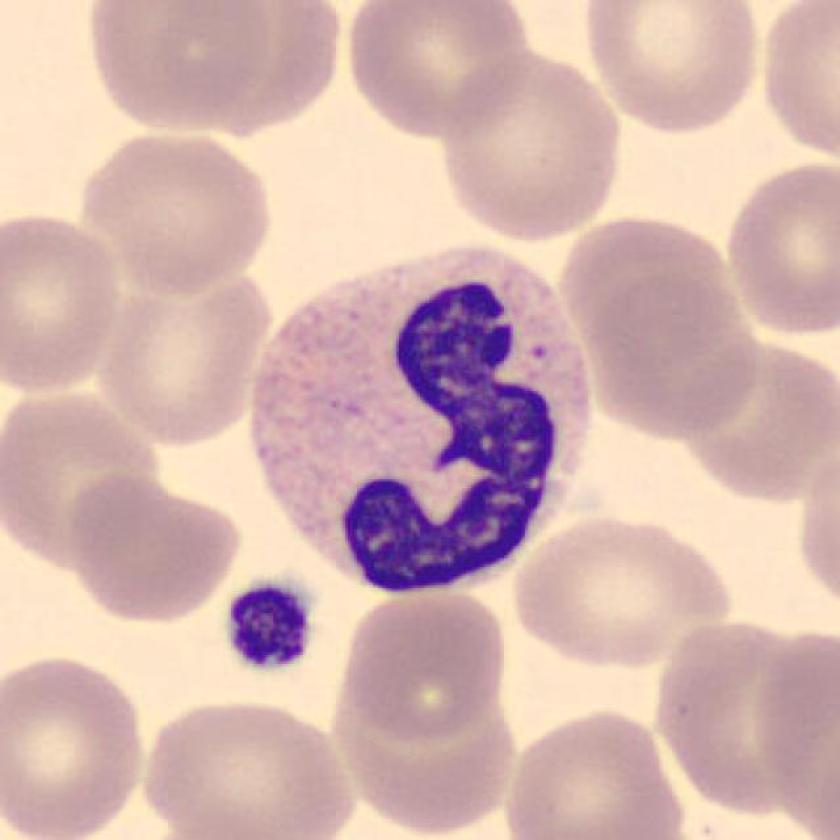neutrophil: (255, 245, 591, 597)
